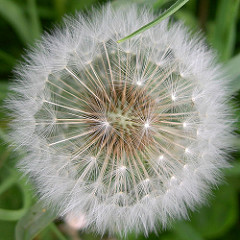dandelion: (1, 7, 239, 240)
